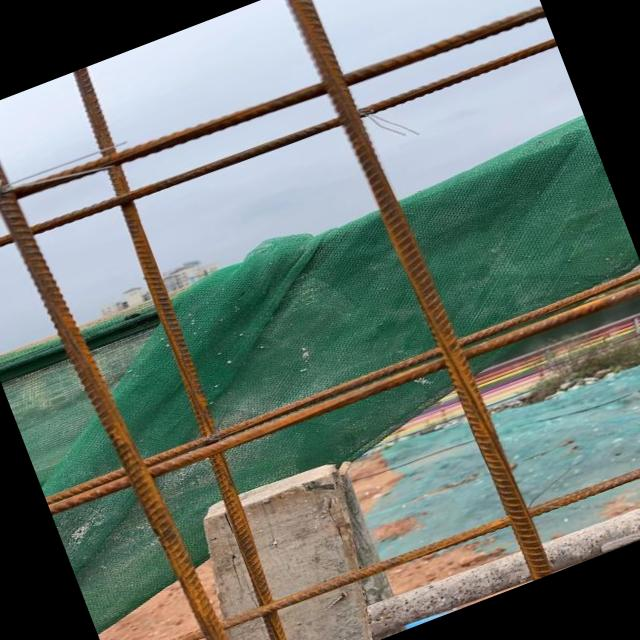ribbed bar: (282, 0, 552, 588), (52, 67, 314, 640), (48, 275, 640, 519), (45, 268, 640, 504), (0, 25, 557, 276), (0, 91, 250, 640), (0, 0, 545, 247), (108, 433, 640, 640)
